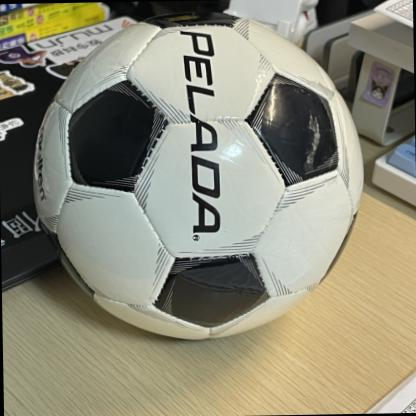ball: (29, 7, 367, 342)
